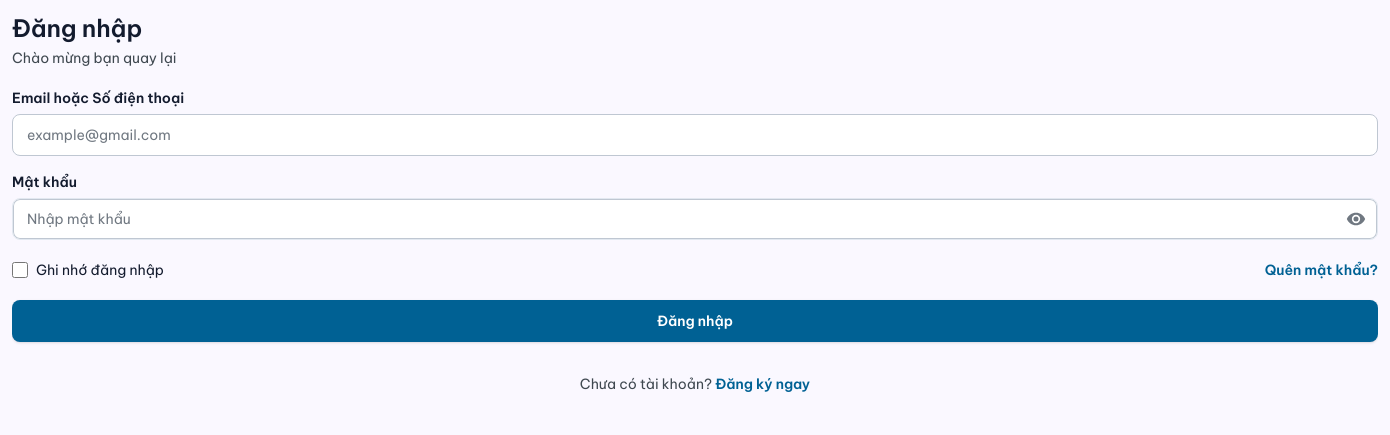
Scenario: LoginForm › shows validation error for too-short password
Type "user@example.com" into the field labelled "Email hoặc Số điện thoại". click: (695, 135)
box: [12,114,1378,156]
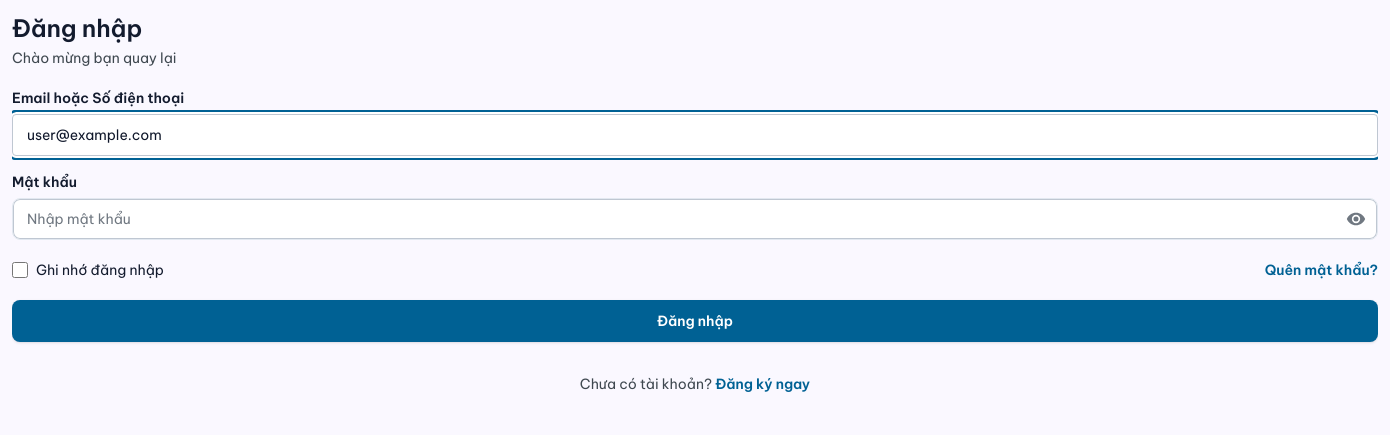
Note: Use placeholder to uniquely target the password input
Type "short" into the password field with placeholder "Nhập mật khẩu". click: (695, 219)
box: [12,198,1378,240]
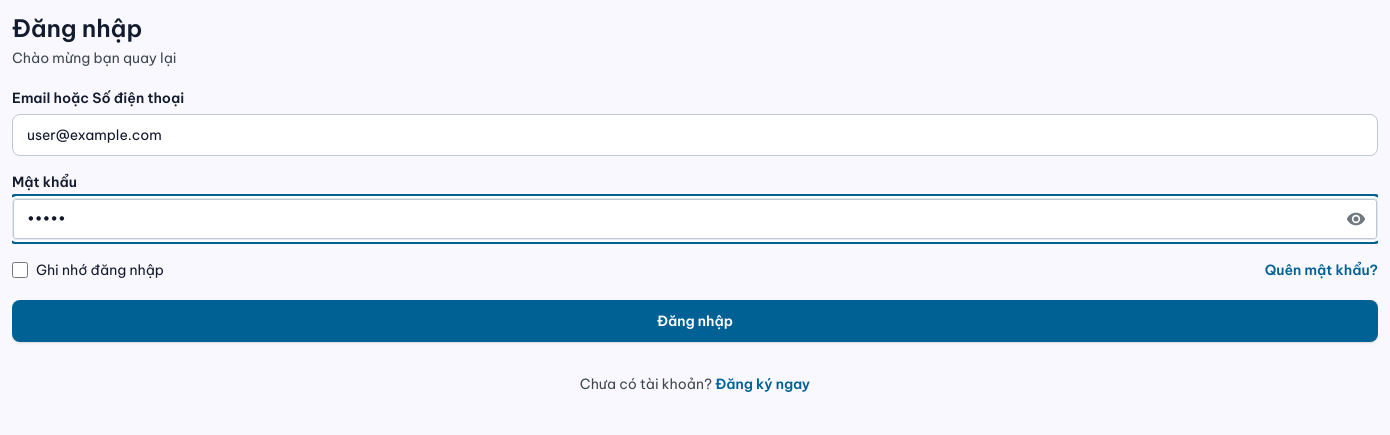
Click the button "Đăng nhập". click: (695, 321)
box: [12,300,1378,342]
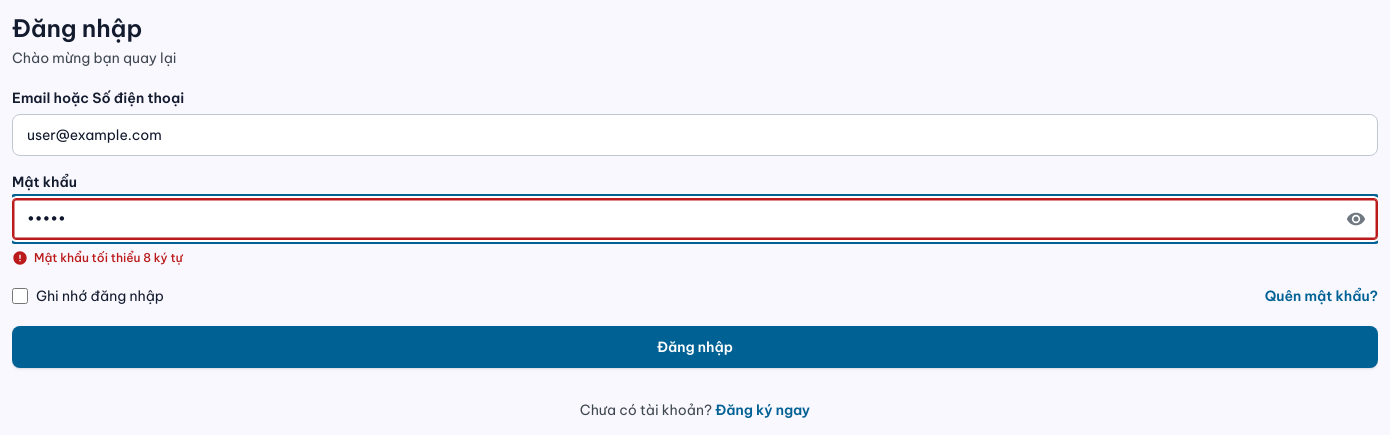
Expected: the text "Mật khẩu tối thiểu 8 ký tự" is shown, [34,250,183,266]
